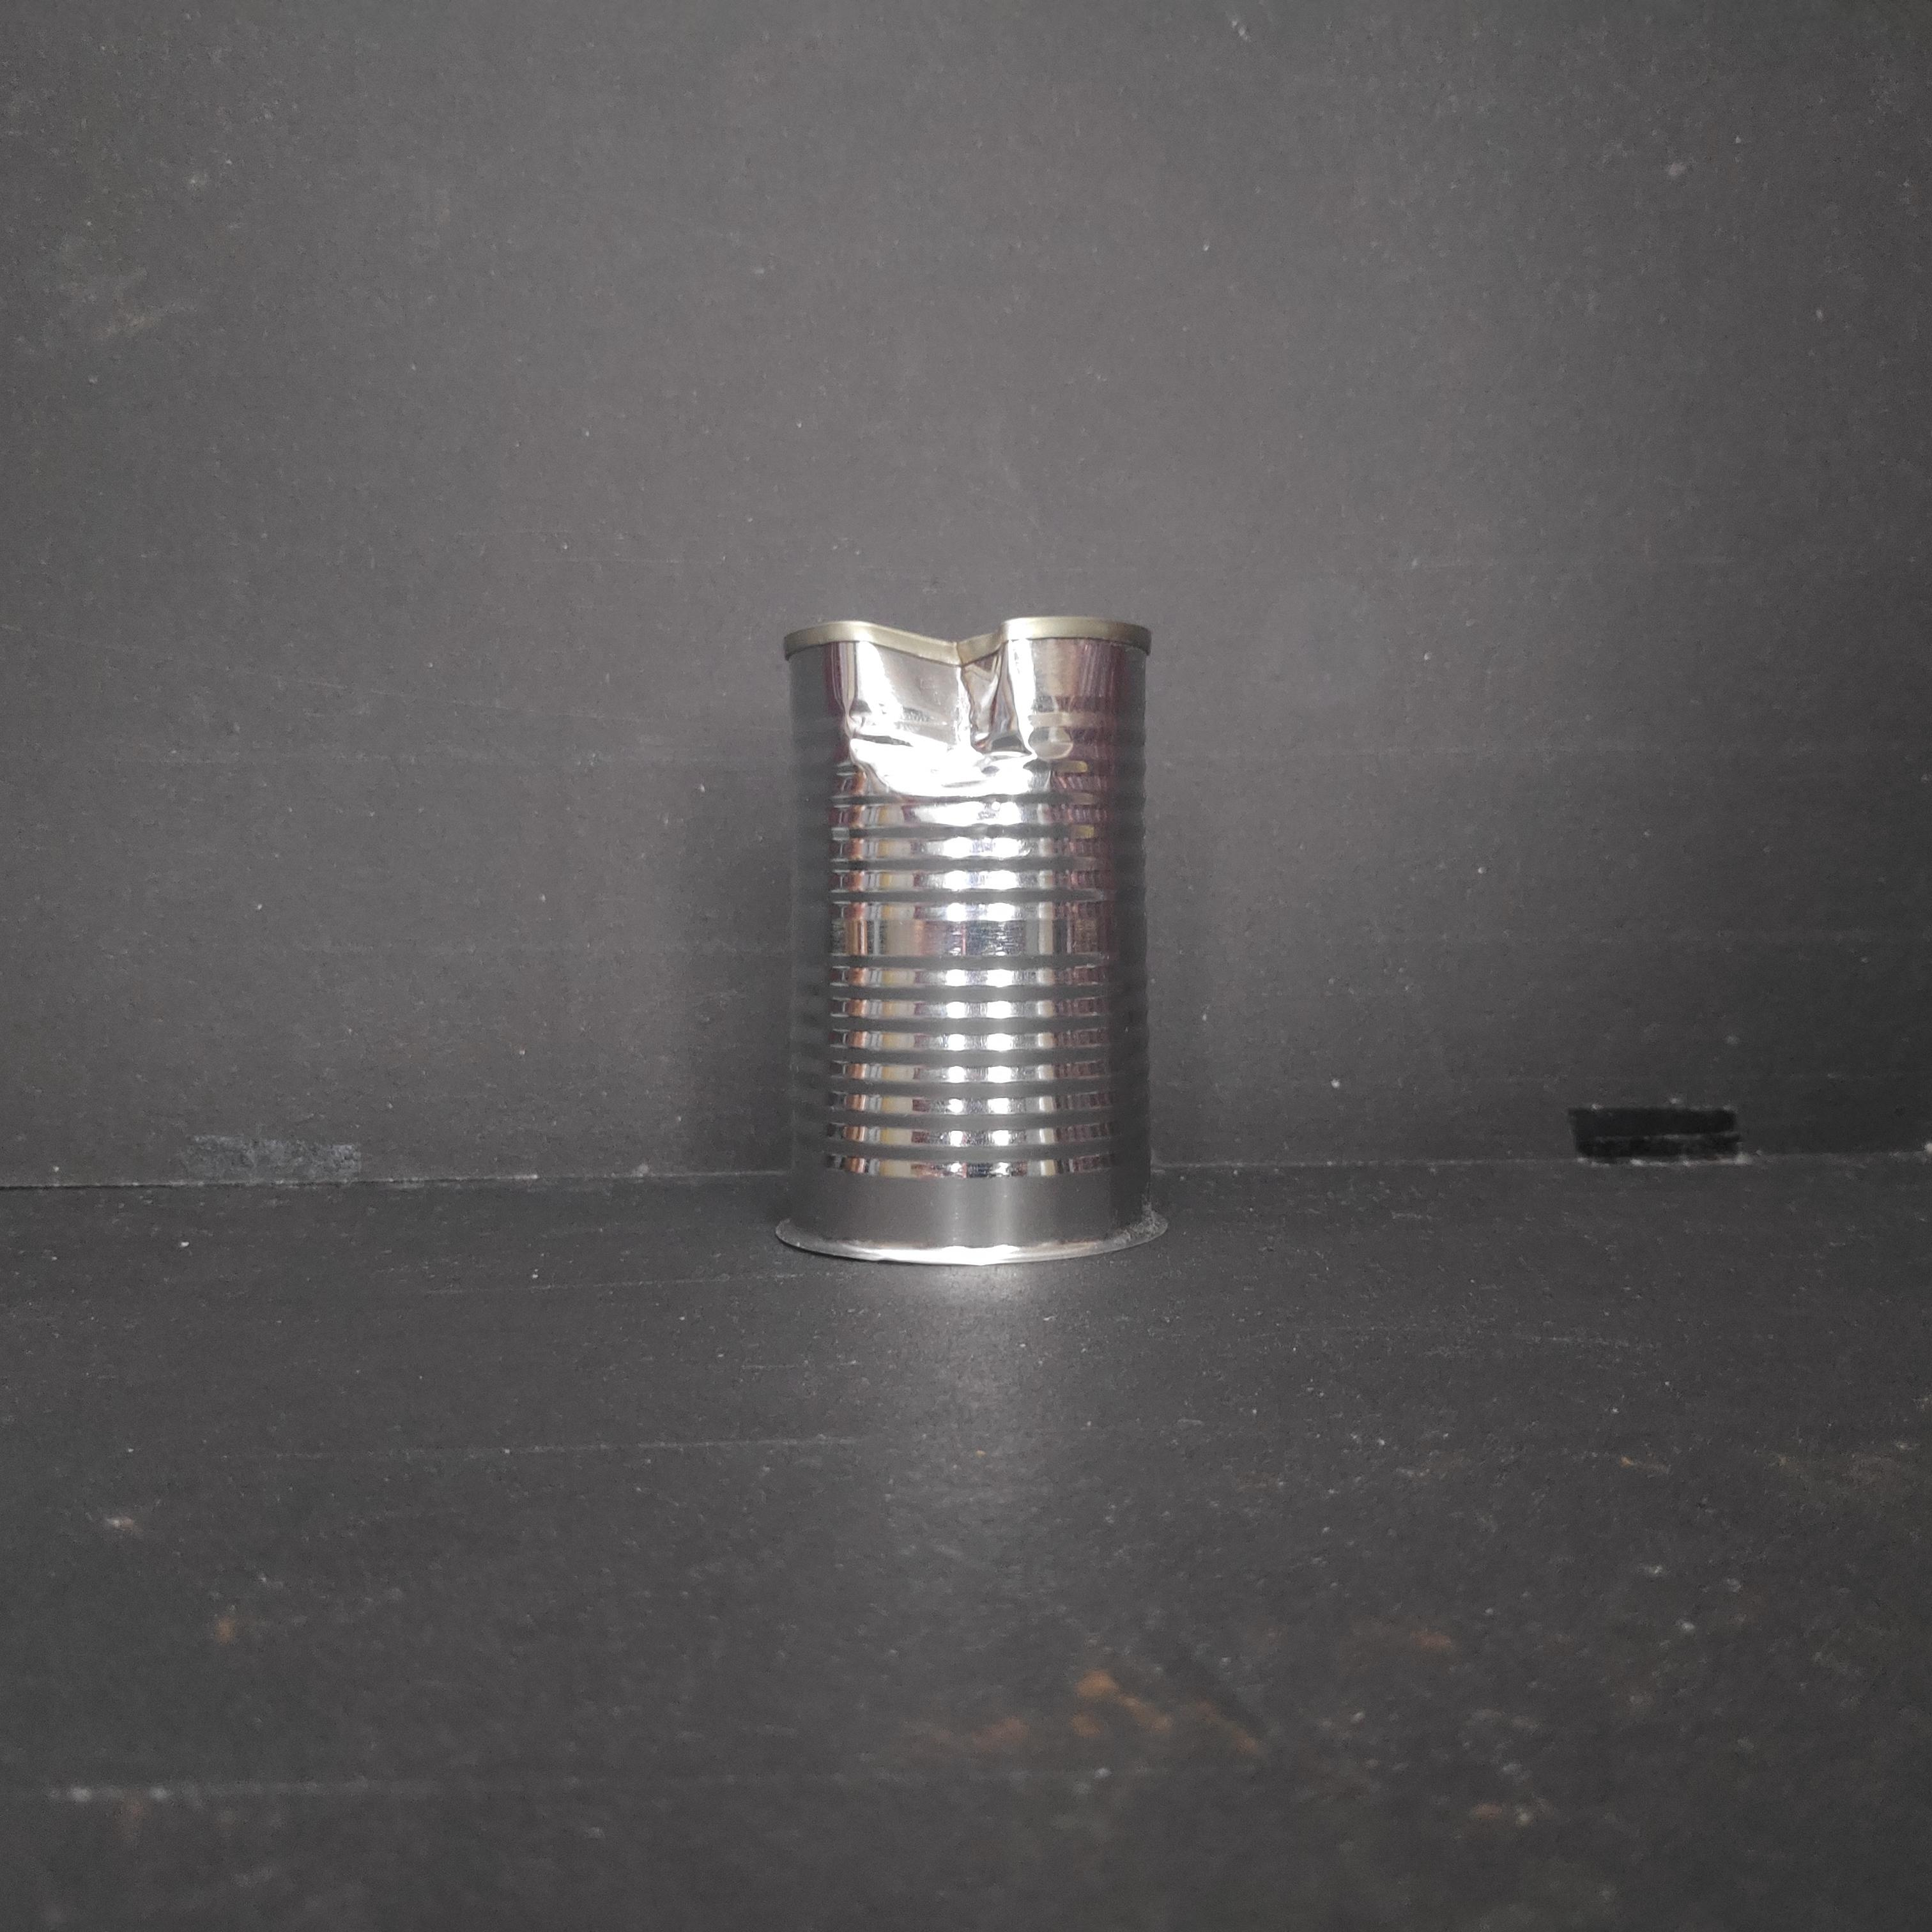Critical Defect: (775, 605, 1168, 1267)
